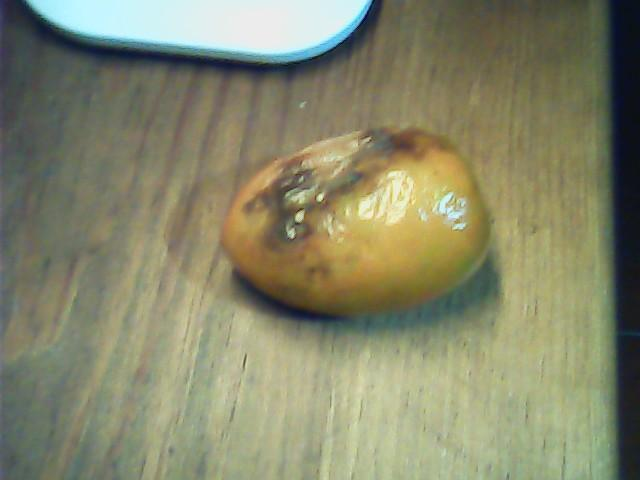defectuoso: (220, 124, 486, 313)
